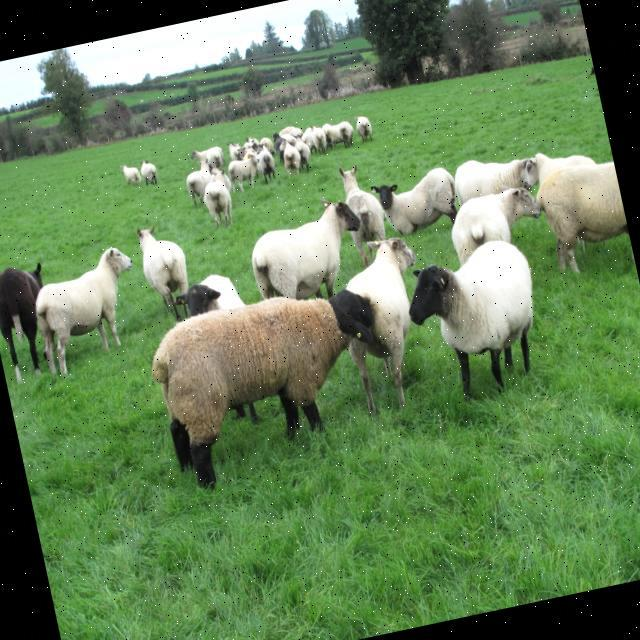sheep: (35, 246, 127, 370)
